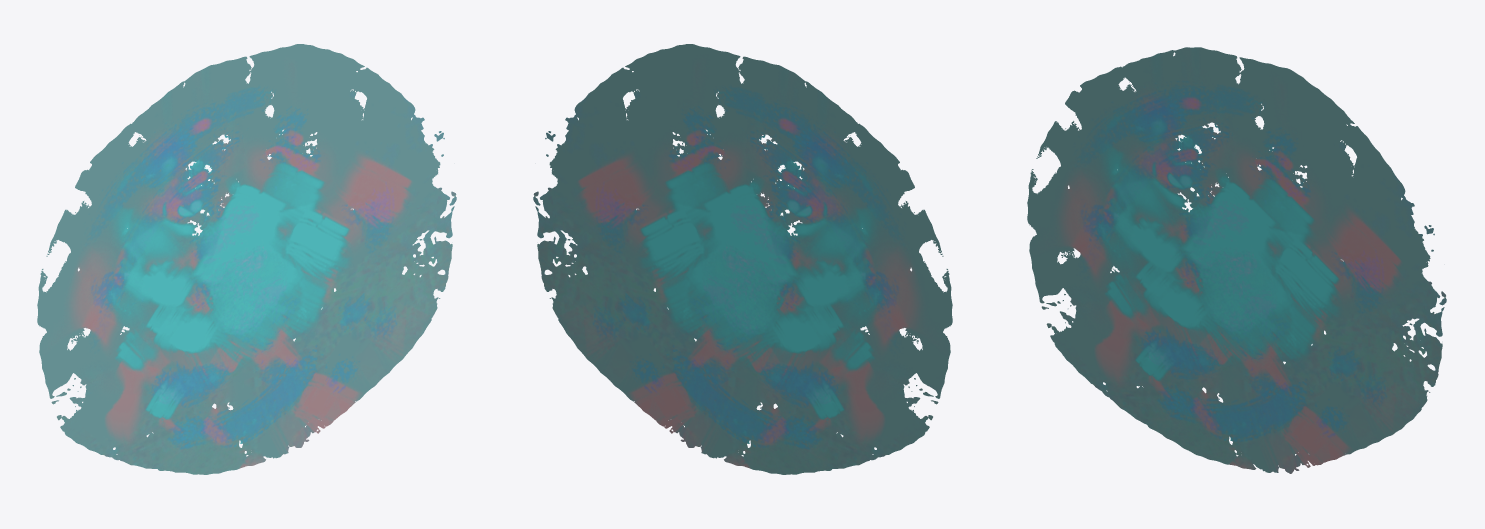
Rendered from ms_blueteleportmiddle_static.fbx.
3 renders of one model, left to right at view 1: azimuth 30°, elevation 25°; view 2: azimuth 150°, elevation 25°; view 3: azimuth 330°, elevation 25°, orthographic.
Visible parts, largest first — view 1: pCylinder1; view 2: pCylinder1; view 3: pCylinder1.
Part boxes in pixels (x1,y1,x2,y2): pCylinder1: [37, 44, 456, 474]; pCylinder1: [533, 44, 952, 474]; pCylinder1: [1027, 47, 1446, 473].
Bounding box in the file's own units: 84.78 × 82.66 × 0.092.
